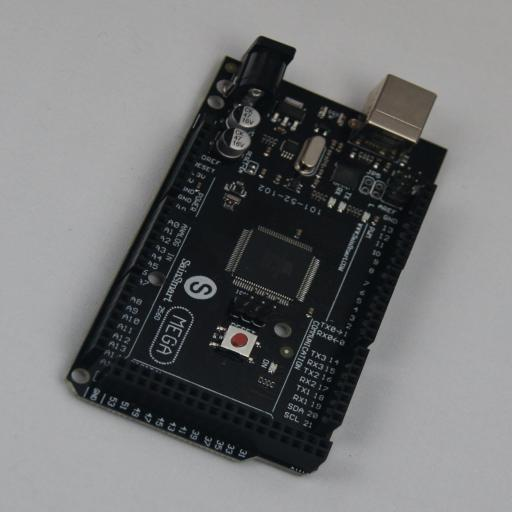Arduino Mega 2560 -Black-: (66, 36, 447, 476)
